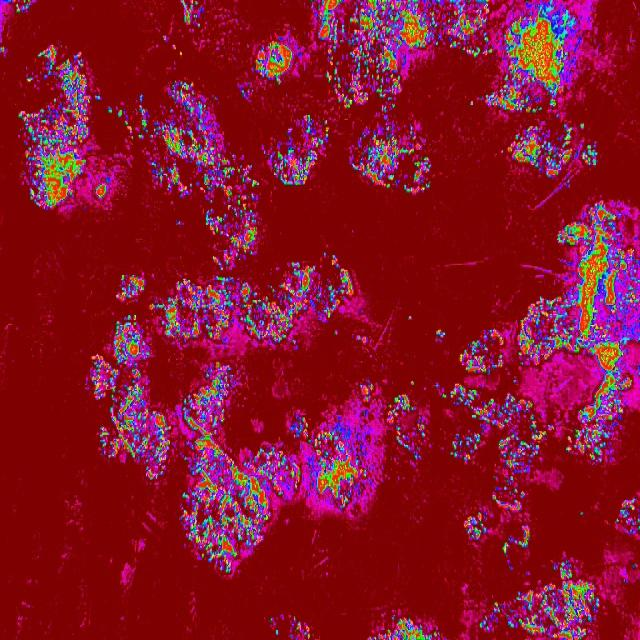fire: (178, 440, 302, 580), (556, 206, 640, 358), (18, 44, 89, 210), (309, 0, 492, 58), (147, 81, 233, 198), (499, 3, 577, 113), (166, 273, 258, 347), (502, 577, 605, 640), (309, 420, 370, 521), (348, 124, 430, 197), (111, 313, 148, 467), (260, 260, 322, 350), (492, 390, 548, 480), (268, 112, 328, 186), (180, 364, 239, 438), (204, 196, 258, 272), (325, 57, 408, 106), (508, 118, 576, 177), (564, 405, 622, 469), (516, 294, 554, 367), (456, 330, 505, 375), (590, 355, 634, 404), (441, 385, 494, 424), (323, 252, 354, 318), (394, 415, 429, 464), (367, 617, 441, 640), (254, 42, 292, 82), (82, 357, 114, 402), (489, 480, 527, 515), (148, 410, 169, 466), (614, 495, 640, 537), (116, 276, 146, 305), (179, 0, 207, 29), (449, 433, 480, 459), (233, 161, 260, 188), (502, 529, 530, 555), (134, 91, 147, 143), (95, 422, 112, 461), (384, 393, 414, 415), (463, 512, 487, 538), (290, 614, 314, 640), (289, 412, 310, 438), (117, 105, 134, 136), (580, 142, 600, 168), (553, 558, 575, 578), (95, 175, 111, 201), (144, 464, 164, 484), (359, 376, 374, 400), (8, 0, 32, 12), (482, 92, 501, 107), (479, 616, 492, 634), (148, 299, 166, 312), (170, 42, 185, 56), (490, 601, 500, 617), (172, 218, 184, 230), (239, 87, 249, 98), (404, 313, 415, 323), (564, 176, 573, 188), (437, 328, 447, 338), (381, 105, 390, 116), (106, 108, 115, 119), (547, 420, 554, 434), (468, 98, 476, 110), (579, 121, 587, 132), (0, 42, 6, 56), (408, 379, 416, 389), (433, 381, 441, 391), (160, 34, 168, 44), (160, 320, 166, 330), (274, 629, 280, 636), (269, 616, 274, 623), (578, 512, 586, 516), (95, 94, 99, 102)
